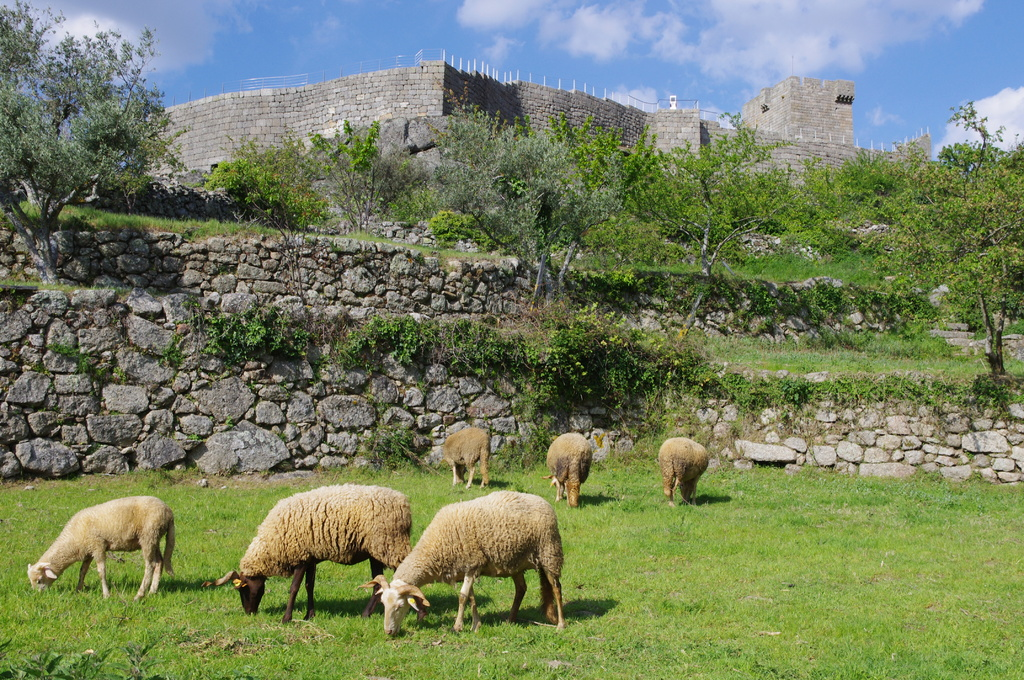sheep: (373, 494, 577, 637), (26, 496, 172, 591), (657, 437, 709, 510), (437, 424, 496, 486), (542, 432, 590, 501)
